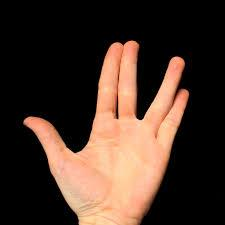Live-Long-Prosper: (25, 39, 195, 222)
